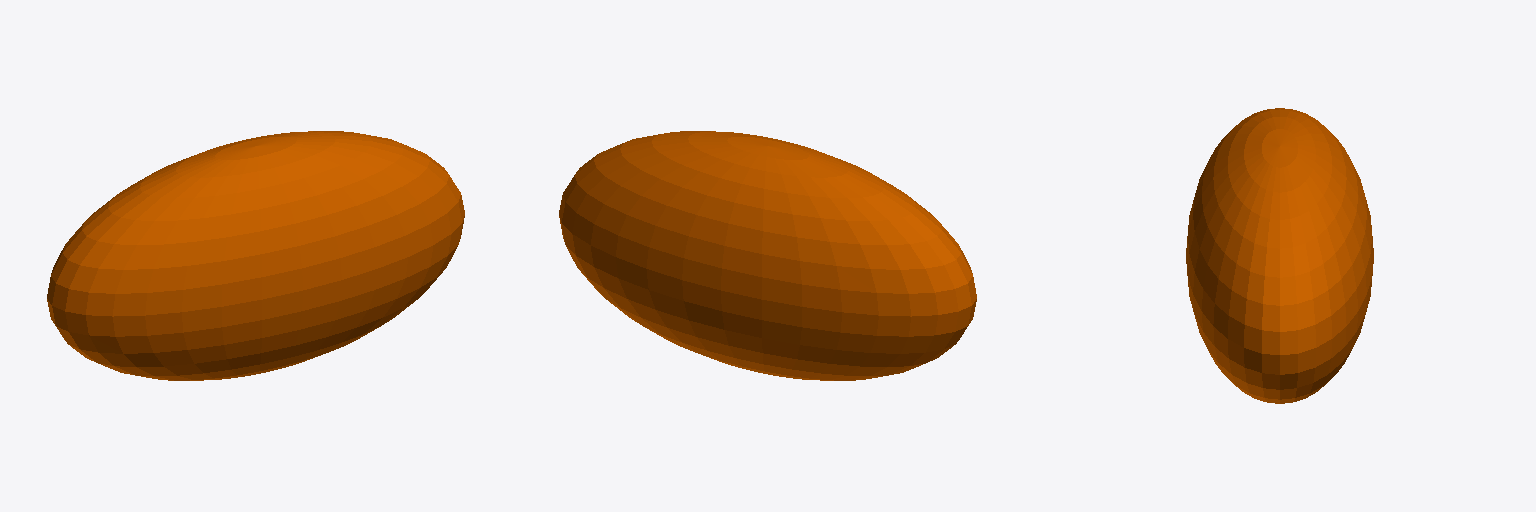
The model's file is moya_aircon_o.obj.
3 renders of one model, left to right at view 1: azimuth 30°, elevation 25°; view 2: azimuth 150°, elevation 25°; view 3: azimuth 270°, elevation 25°, orthographic.
Parts seen in each view (by area): view 1: Sphere_Sphere.000_Sphere_Sphere.003; view 2: Sphere_Sphere.000_Sphere_Sphere.003; view 3: Sphere_Sphere.000_Sphere_Sphere.003.
Boxes of the visible parts, box(x1,y1,x2,y2) form: Sphere_Sphere.000_Sphere_Sphere.003: box(47, 131, 464, 380); Sphere_Sphere.000_Sphere_Sphere.003: box(559, 131, 976, 380); Sphere_Sphere.000_Sphere_Sphere.003: box(1186, 108, 1373, 403).
Size of the model in its own units: 0.9189 by 0.4726 by 0.3675.